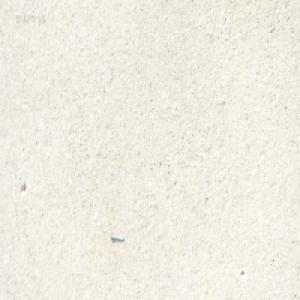Nail: (109, 232, 124, 242)
